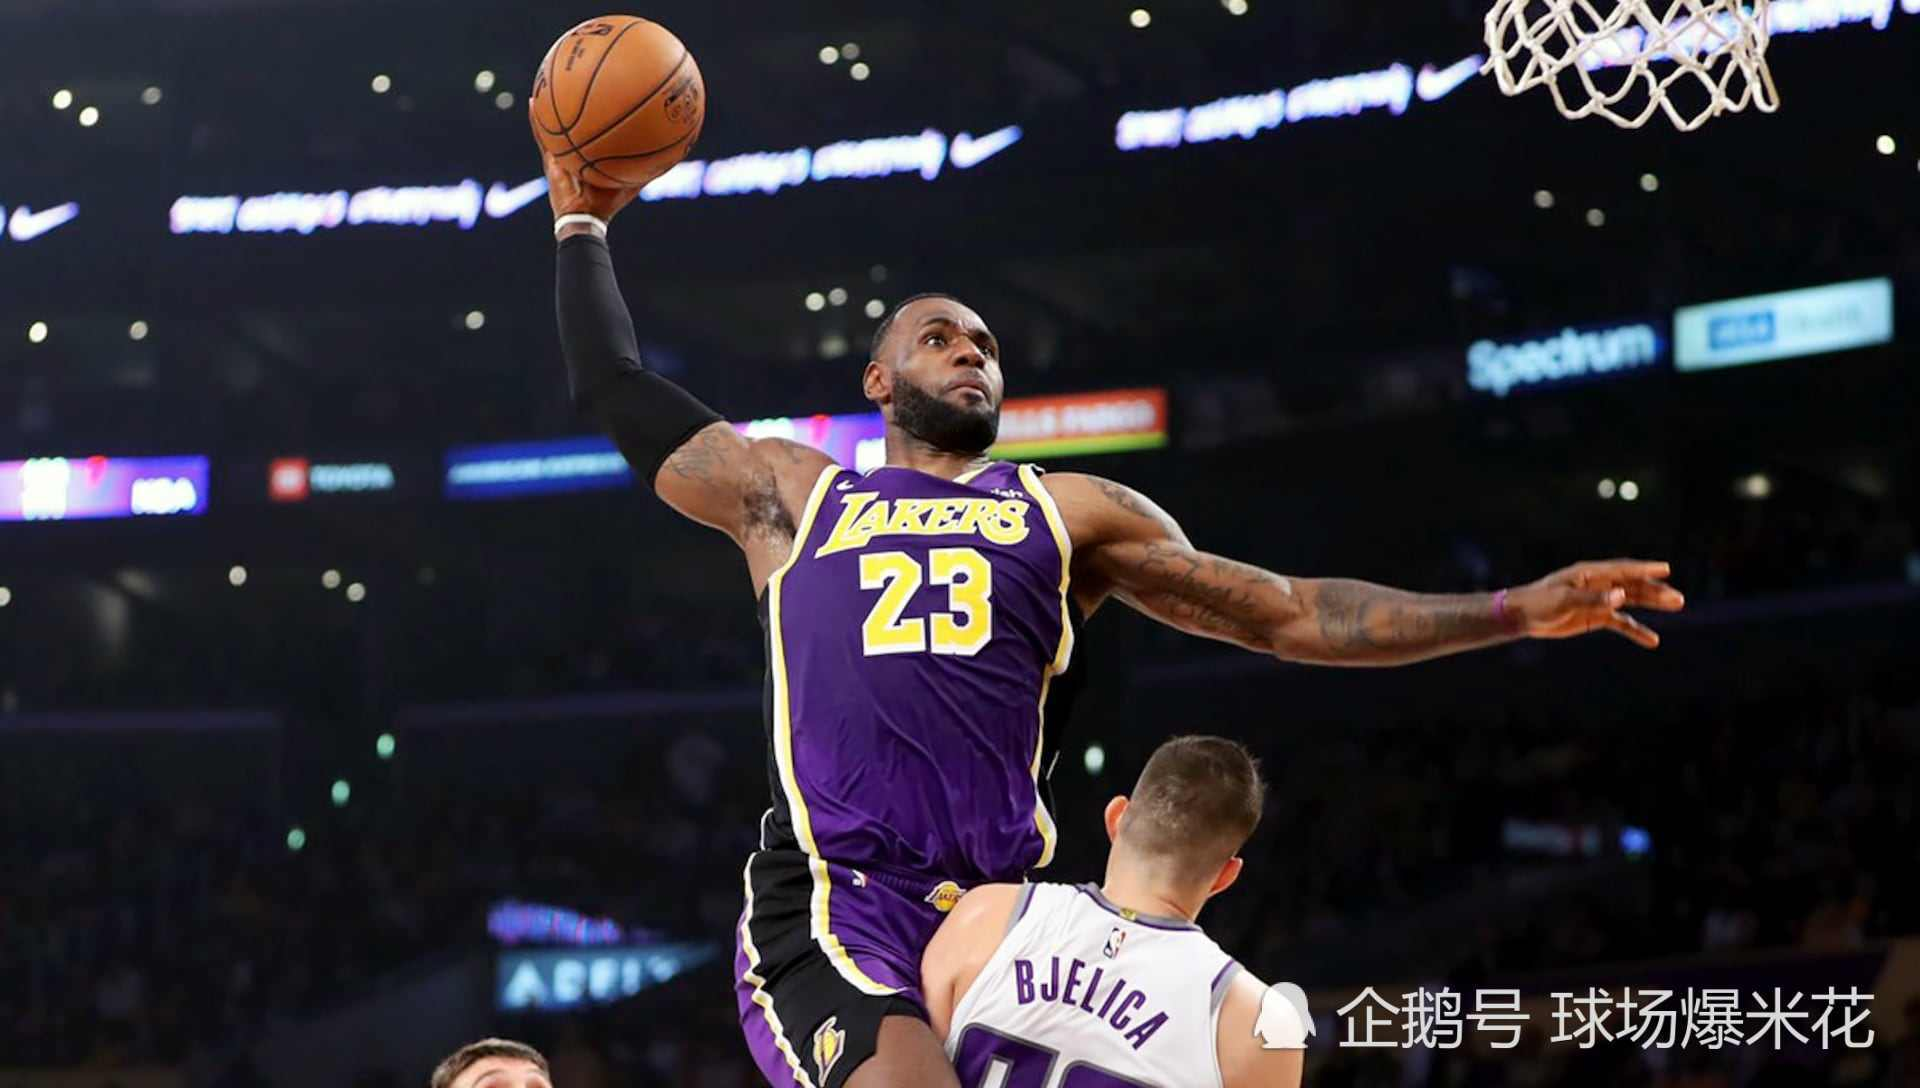ball: (529, 15, 705, 191)
